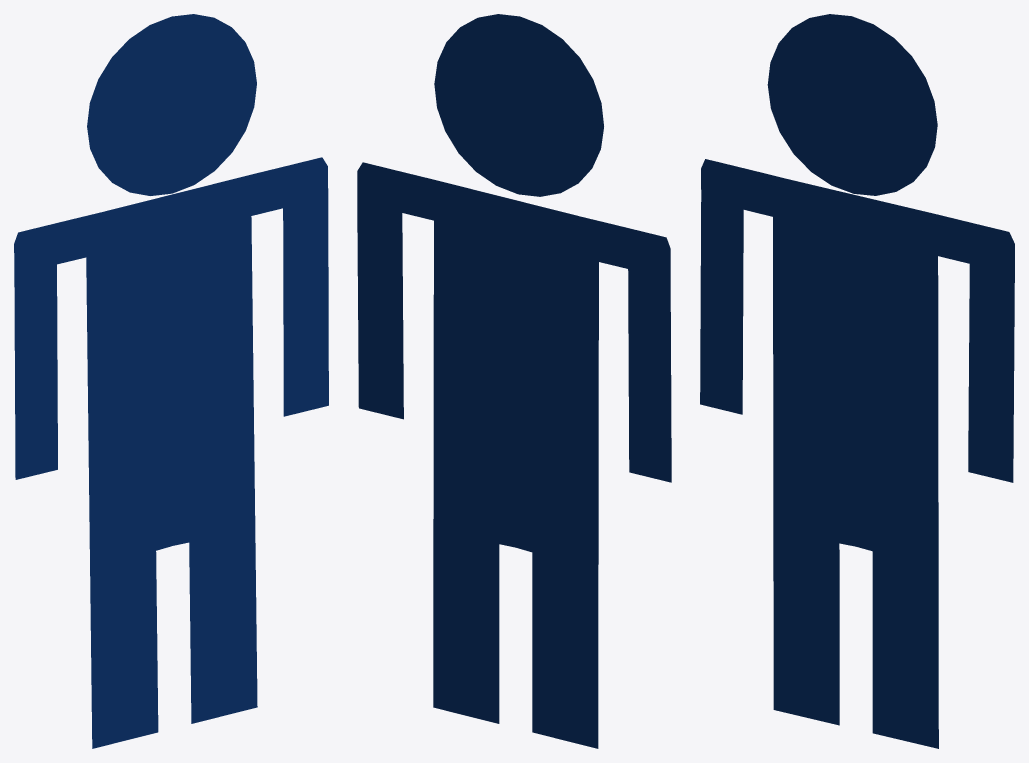
Rendered from Hombre.obj.
3 views of the same model, side by side, from view 1: azimuth 30°, elevation 25°; view 2: azimuth 150°, elevation 25°; view 3: azimuth 330°, elevation 25° (orthographic).
Parts seen in each view (by area): view 1: Hombre:pPlane2; view 2: Hombre:pPlane2; view 3: Hombre:pPlane2.
Boxes of the visible parts, box(x1,y1,x2,y2) form: Hombre:pPlane2: box(14, 14, 328, 748); Hombre:pPlane2: box(357, 14, 671, 748); Hombre:pPlane2: box(700, 14, 1014, 748).
Size of the model in its own units: 3.69 by 8.02 by 0.073.
Materials: 1 (1 with a texture image).
